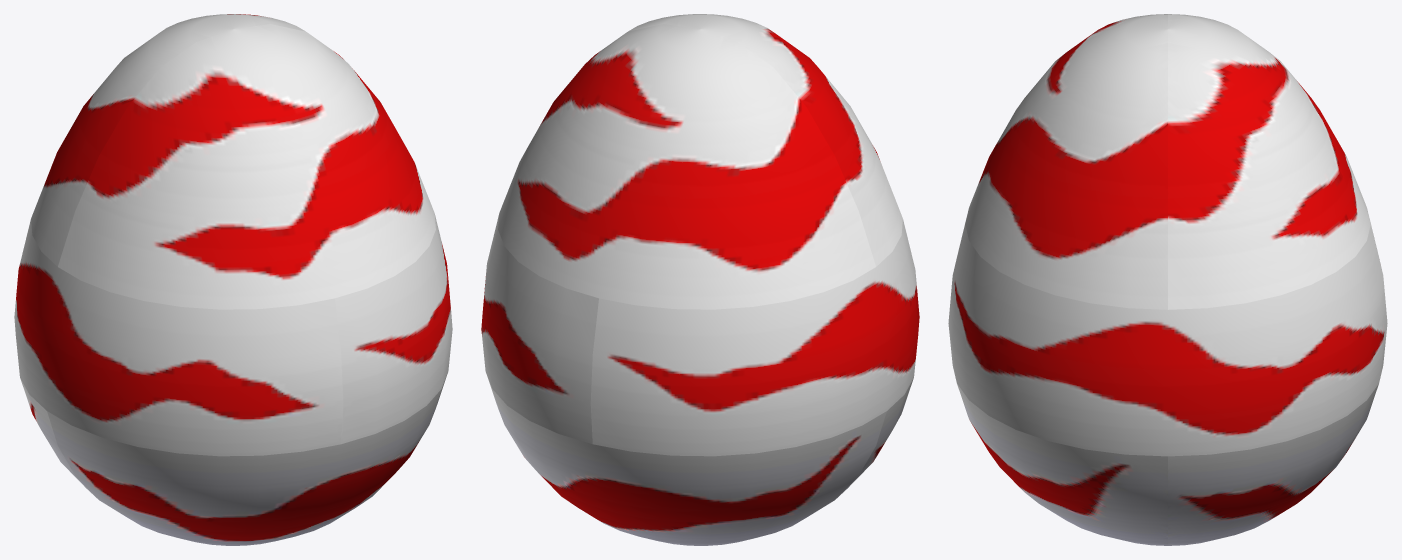
Rendered from BlueEgg.dae.
3 renders of one model, left to right at view 1: azimuth 30°, elevation 25°; view 2: azimuth 150°, elevation 25°; view 3: azimuth 270°, elevation 25°, orthographic.
Visible parts, largest first — view 1: Egg; view 2: Egg; view 3: Egg.
Boxes of the visible parts, <box> form: Egg: <box>14,14,452,545</box>; Egg: <box>481,14,919,545</box>; Egg: <box>948,14,1387,545</box>.
Bounding box in the file's own units: 0.7112 × 0.8871 × 0.7112.
Materials: 1 (1 with a texture image).
